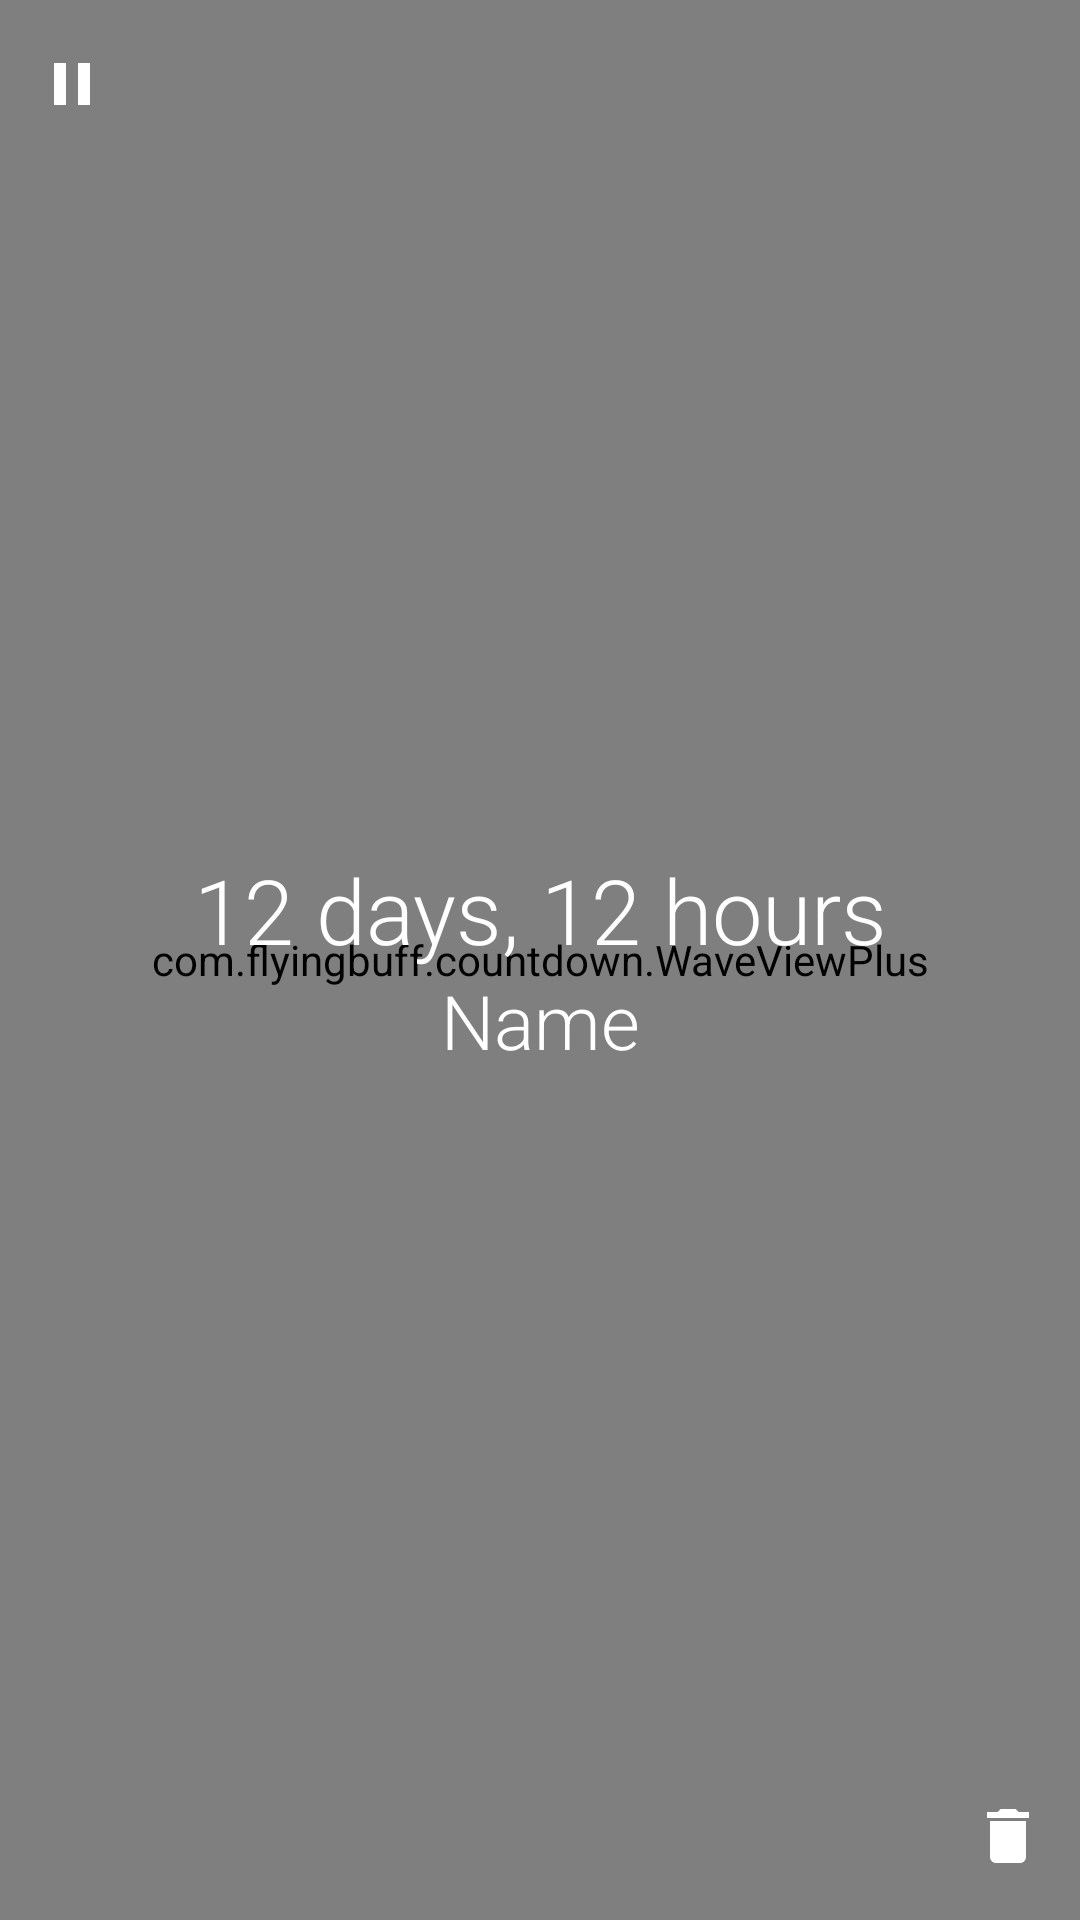

Named icons in this screenshot (1080*1920) and their centers, point (x, y):
pause: point (72, 84)
